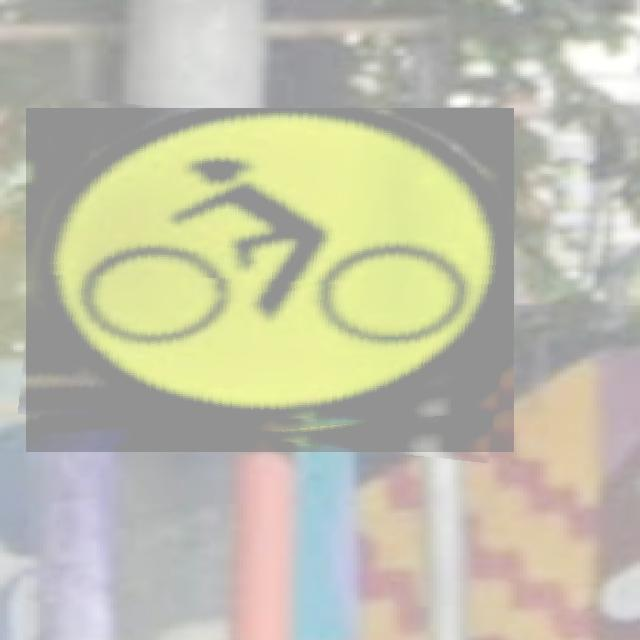bike lane: (26, 108, 514, 452)
